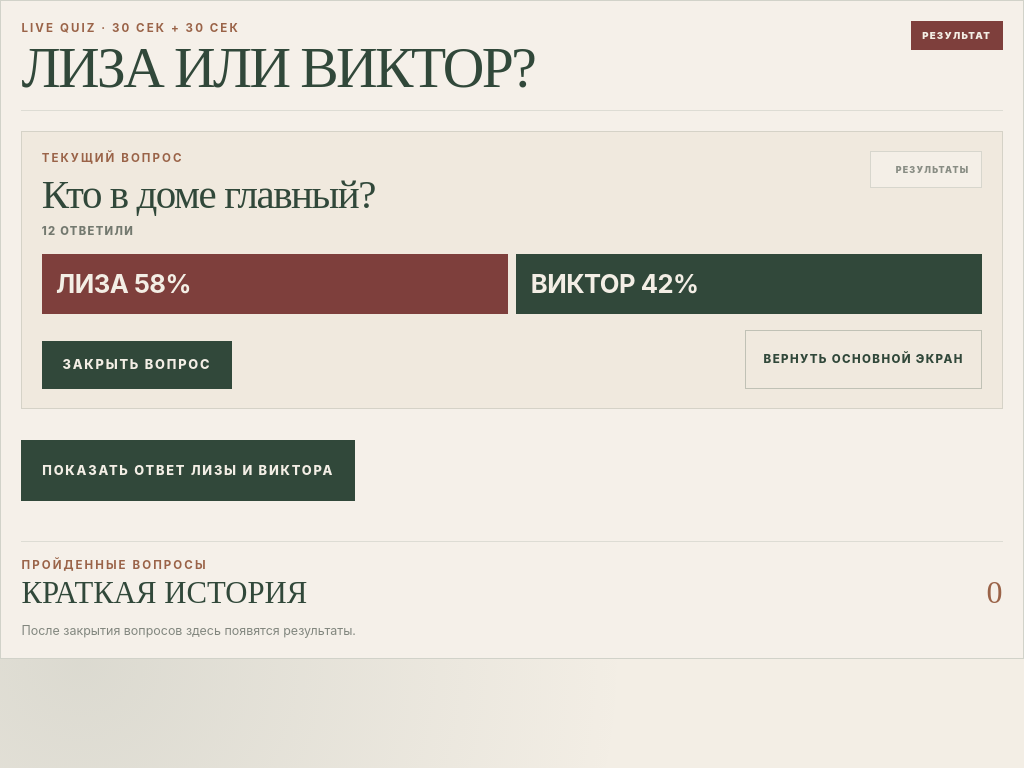
Test case: AdminQuizPanel joint answer reveal › shows the separate second reveal only after guest results and only when the joint answer is ready
Expected: the text "ЛИЗА 58%" is shown, [42,254,508,314]
Click the button "ПОКАЗАТЬ ОТВЕТ ЛИЗЫ И ВИКТОРА" at [188, 470], box [22,440,355,501]
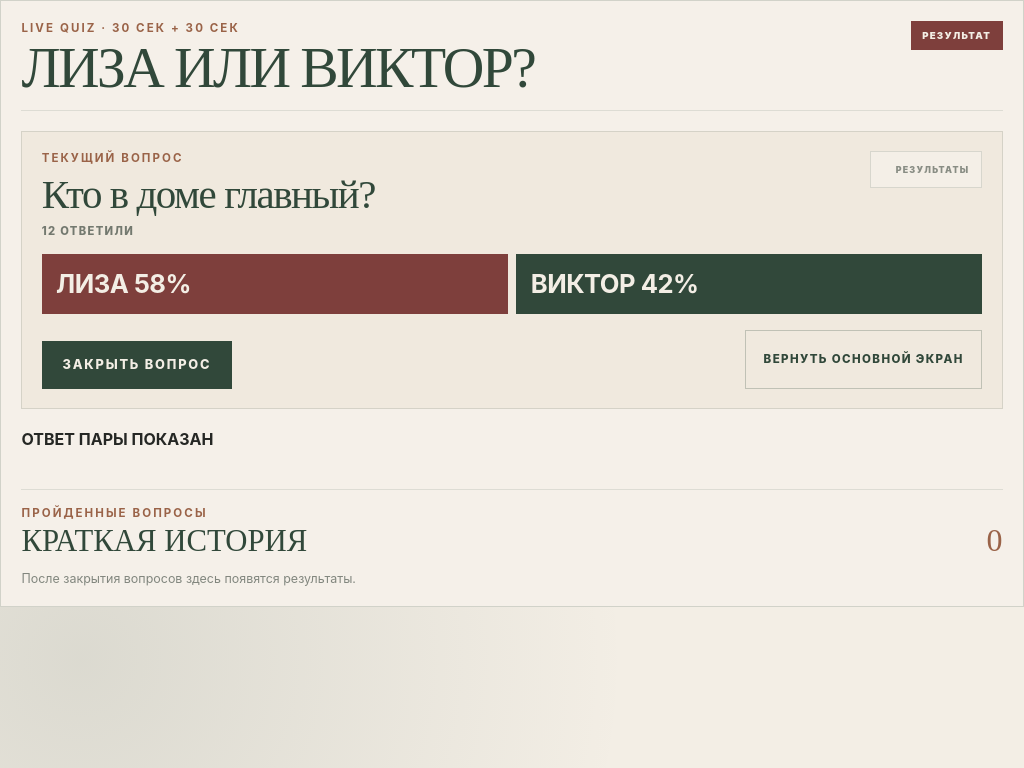
Now the text "ОТВЕТ ПАРЫ ПОКАЗАН" is shown, box [22,429,214,449]
